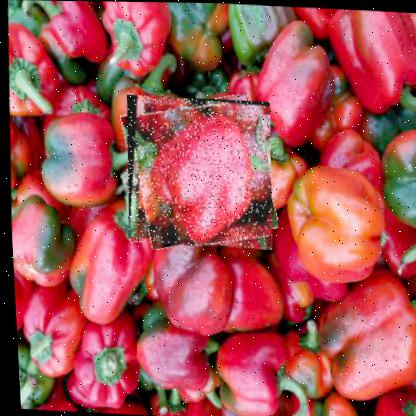capsicum: (120, 93, 275, 249)
